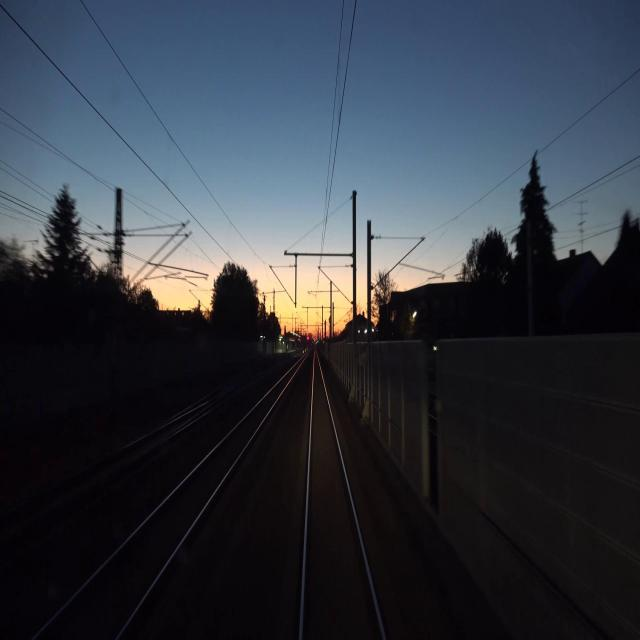rail-track: (39, 367, 295, 639), (304, 357, 381, 639), (1, 421, 180, 533)
